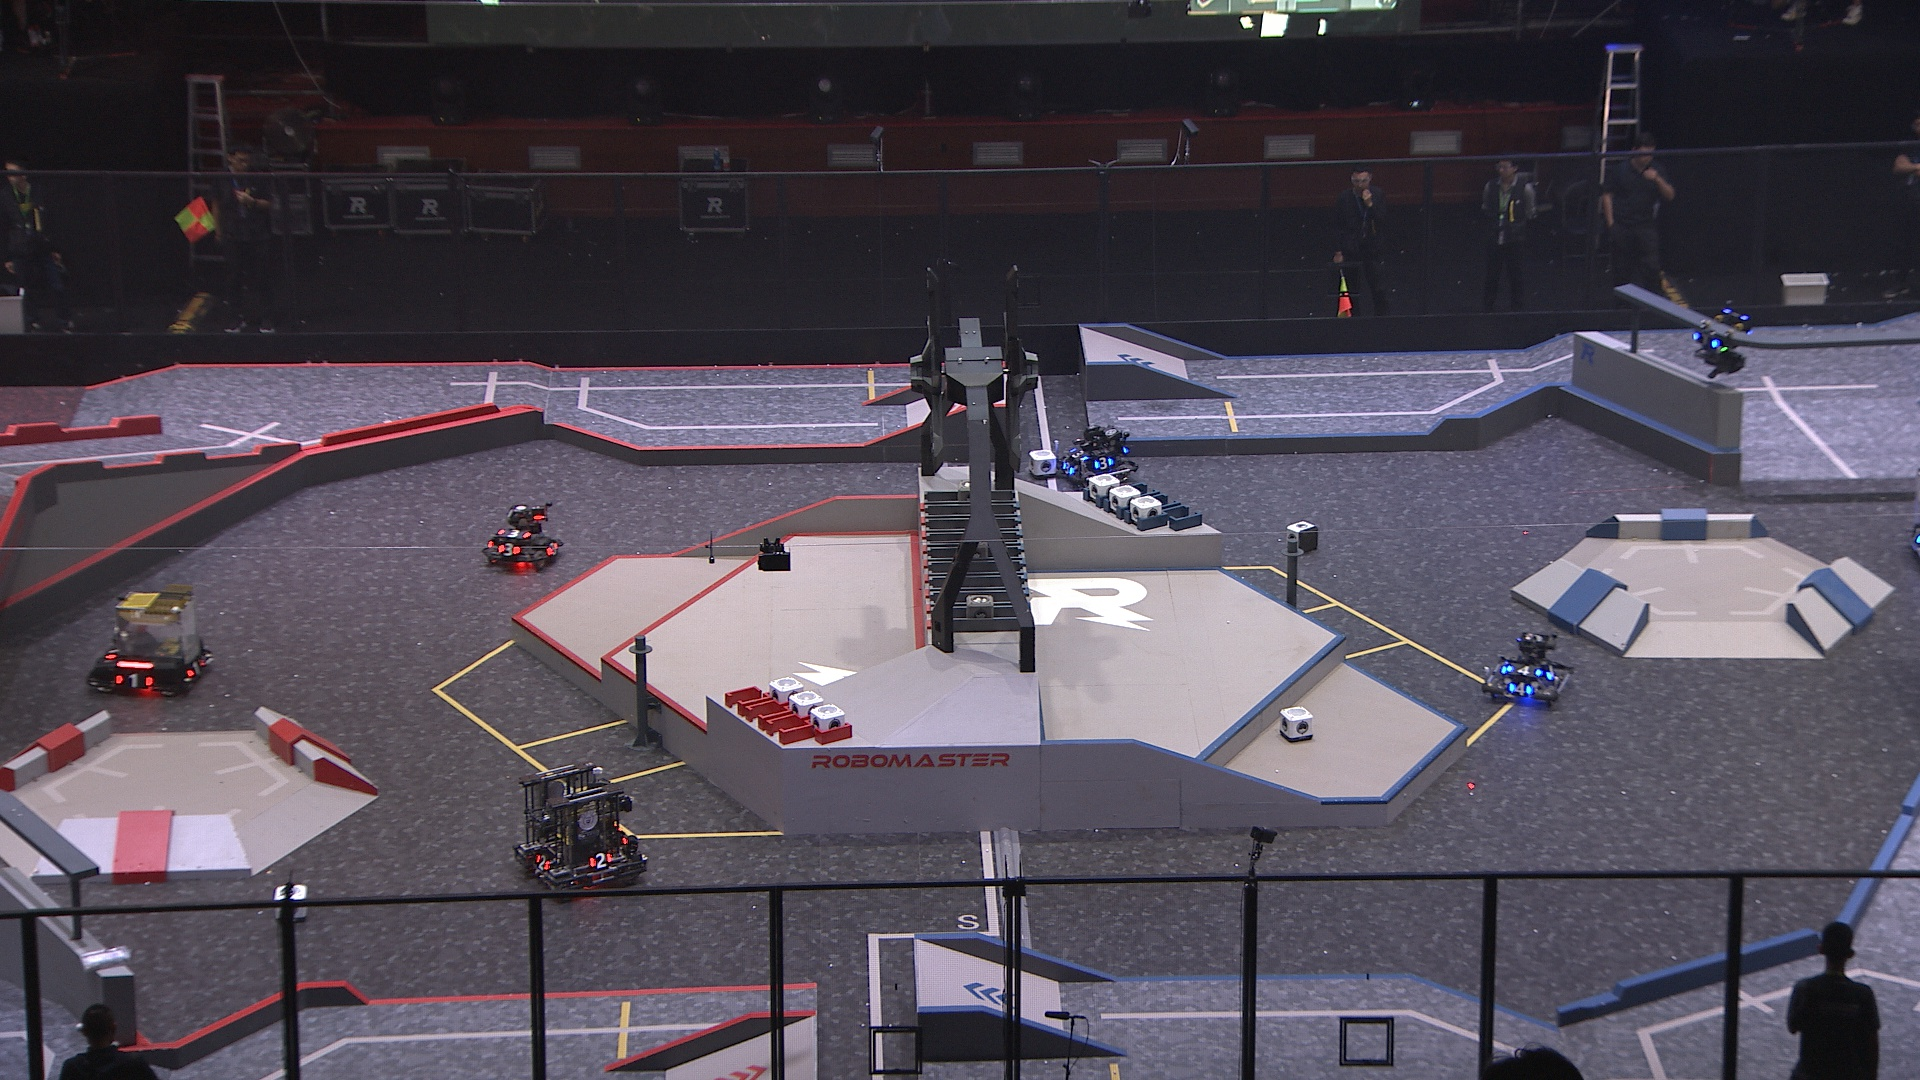armor: (1691, 328, 1721, 353), (1505, 659, 1545, 676), (113, 673, 153, 688), (1506, 679, 1538, 699), (585, 851, 615, 870), (496, 526, 535, 541), (539, 538, 564, 560), (183, 657, 204, 683), (1091, 452, 1114, 473), (531, 851, 553, 873), (495, 541, 520, 559), (1542, 662, 1561, 684), (105, 641, 124, 662), (1059, 456, 1077, 475), (1068, 447, 1091, 462), (1908, 522, 1920, 546)
car: (513, 760, 651, 897), (82, 585, 219, 700), (1480, 629, 1576, 705), (485, 496, 567, 572), (1048, 419, 1139, 488), (1896, 456, 1920, 560)
watcher: (1683, 297, 1754, 382)
